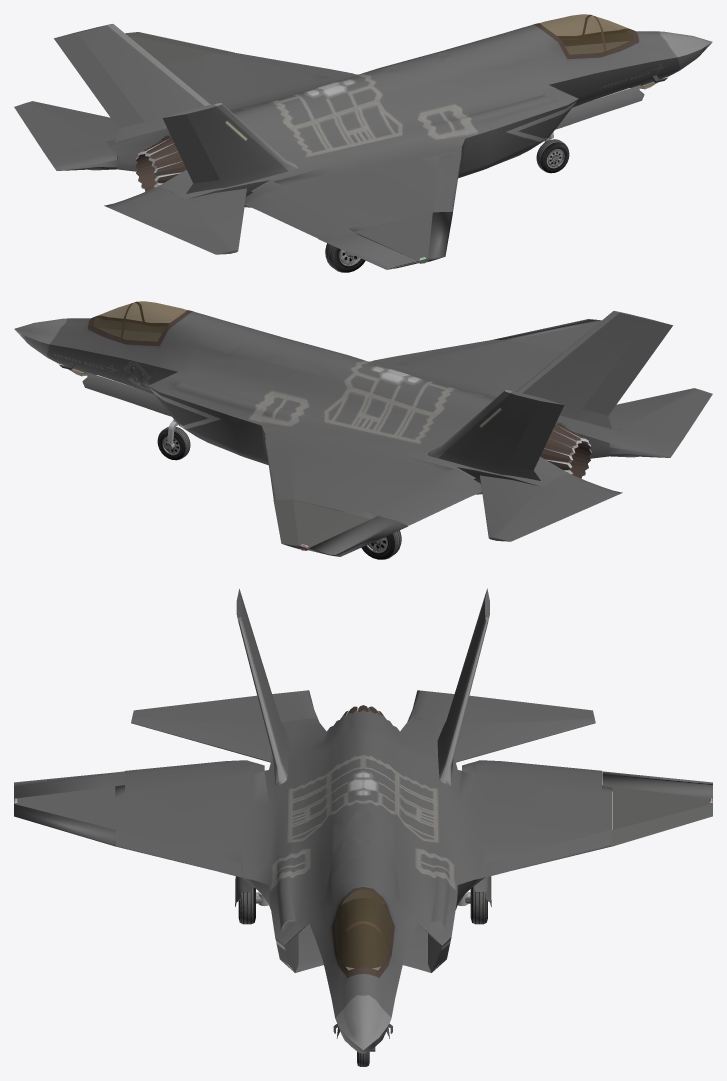
3 views of the same model, one above another, from view 1: azimuth 30°, elevation 25°; view 2: azimuth 150°, elevation 25°; view 3: azimuth 270°, elevation 25° (orthographic). The views are drawn at different scales.
Visible parts, largest first — view 1: fuselage, vertStab, rightElevator, leftElevator, rightFlaperon, canopy, leftRudder, fuselage.001, topLiftDoor, rightRudder, rightFlaperon.001, rightNoseDoor (+8 smaller); view 2: fuselage, vertStab, leftElevator, rightElevator, leftFlaperon, canopy, rightRudder, fuselage.002, topLiftDoor, leftRudder, rightFlaperon.003, leftNoseDoor (+8 smaller); view 3: fuselage, leftElevator, rightElevator, vertStab, canopy, leftFlaperon, rightFlaperon, fuselage.001, fuselage.002, topLiftDoor, leftSlat, rightSlat (+6 smaller).
Part boxes in pixels (x1,y1,x2,y2): fuselage: (106,24,712,231); vertStab: (76,24,298,193); rightElevator: (104,186,246,254); leftElevator: (14,101,118,170); rightFlaperon: (245,181,363,238); canopy: (534,14,639,59); leftRudder: (54,32,144,128); fuselage.001: (354,212,432,263); topLiftDoor: (467,25,549,67); rightRudder: (162,111,219,183); rightFlaperon.001: (318,229,417,269); rightNoseDoor: (555,85,644,129); fuselage: (14,311,620,518); vertStab: (428,311,650,480); leftElevator: (480,473,622,541); rightElevator: (608,388,712,457); leftFlaperon: (363,468,481,525); canopy: (87,301,192,346); rightRudder: (582,319,672,415); fuselage.002: (293,500,370,550); topLiftDoor: (177,312,259,354); leftRudder: (507,398,564,470); rightFlaperon.003: (308,516,408,556); leftNoseDoor: (82,372,171,416); fuselage: (115,710,611,1053); leftElevator: (408,690,595,762); rightElevator: (131,690,318,762); vertStab: (236,600,489,785); canopy: (332,887,394,977); leftFlaperon: (462,760,601,792); rightFlaperon: (125,760,264,793); fuselage.001: (14,786,115,829); fuselage.002: (612,786,712,829); topLiftDoor: (330,857,396,905); leftSlat: (485,830,611,877); rightSlat: (116,830,240,877).
Size of the model in its own units: 18.48 by 5.66 by 15.54.
Materials: 9 (2 with a texture image).
